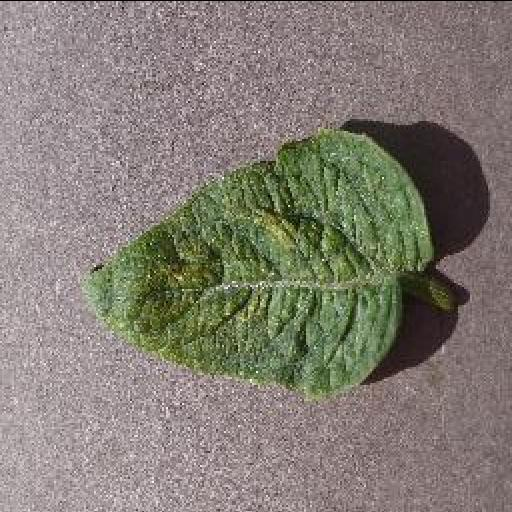disease_tomato: (83, 130, 437, 396)
